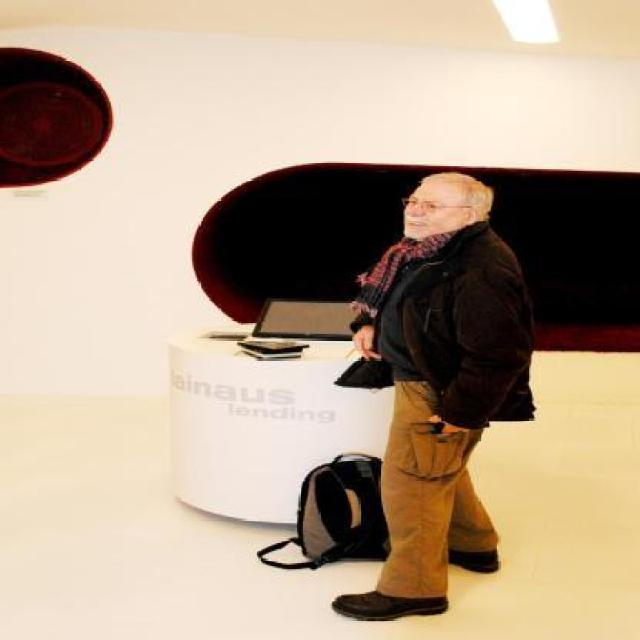backpack: (290, 451, 396, 566)
